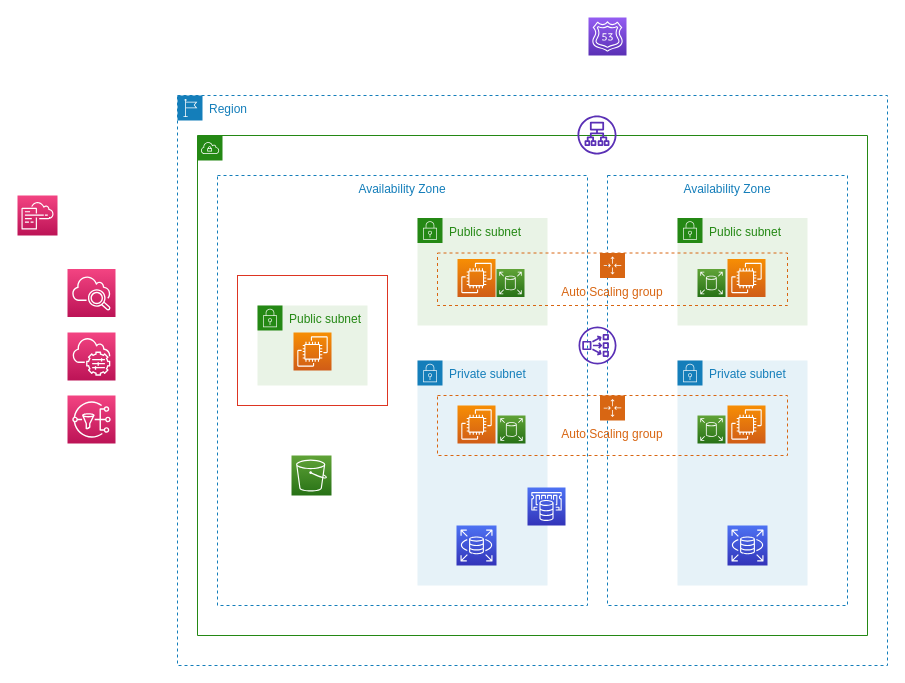
Image size: 905x683. Some labels were removed from this diagram. The shapes that lost their labels are listed below. From the top down, each one's box as (x1, y1, x2, y2) in pixels, then its label:
(236, 274, 388, 406): Security group
(196, 134, 868, 636): VPC
